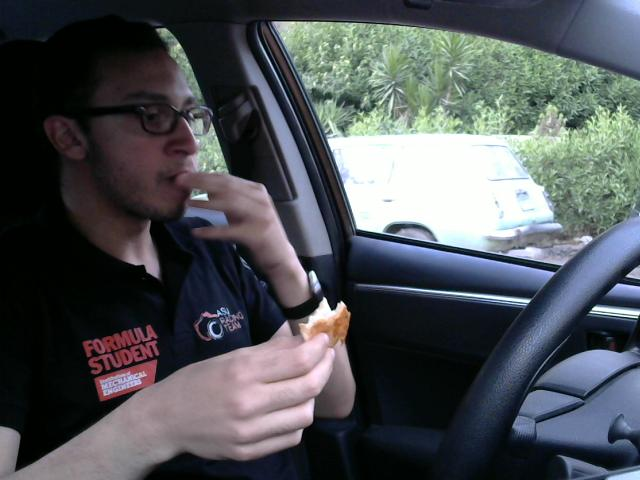Eating: (294, 292, 361, 358)
